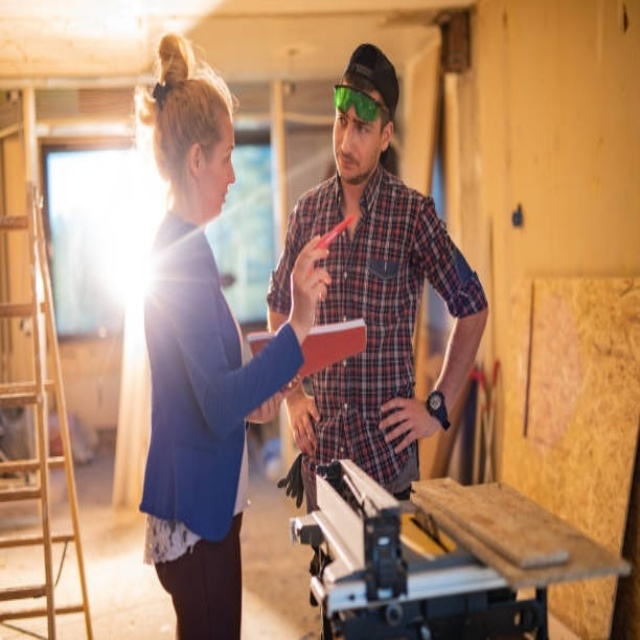Sin_gafas: (335, 108, 372, 146), (207, 135, 235, 173)
Sin_guantes: (288, 228, 337, 329), (379, 393, 438, 451), (280, 378, 320, 447)
Sin_mascara: (205, 177, 234, 220), (336, 147, 362, 179)
